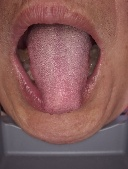tongue: (25, 28, 92, 116)
